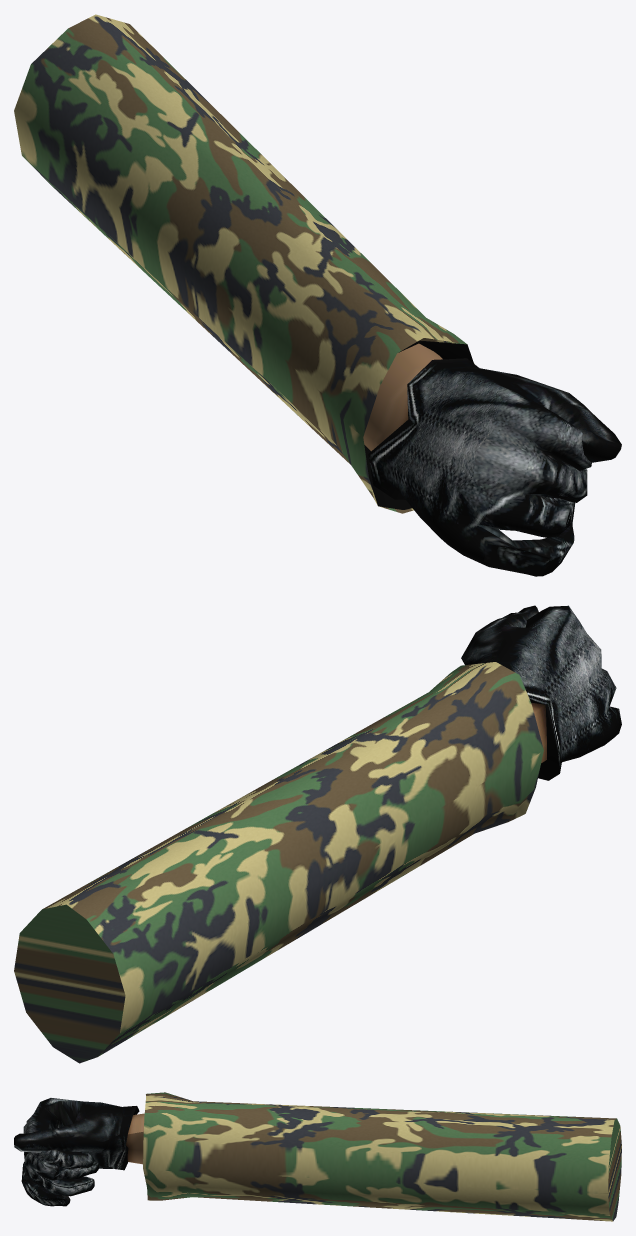
Rendered from hand2.FBX.
The picture shows the model from 3 angles, top to bottom: view 1: azimuth 30°, elevation 25°; view 2: azimuth 150°, elevation 25°; view 3: azimuth 270°, elevation 25°; orthographic projection. The views are drawn at different scales.
Parts seen in each view (by area): view 1: hand2; view 2: hand2; view 3: hand2.
Part boxes in pixels (x1,y1,x2,y2): hand2: (14, 14, 621, 576); hand2: (14, 605, 621, 1063); hand2: (14, 1092, 621, 1221).
Size of the model in its own units: 9.55 by 41.11 by 7.62.
Materials: 1 (1 with a texture image).
